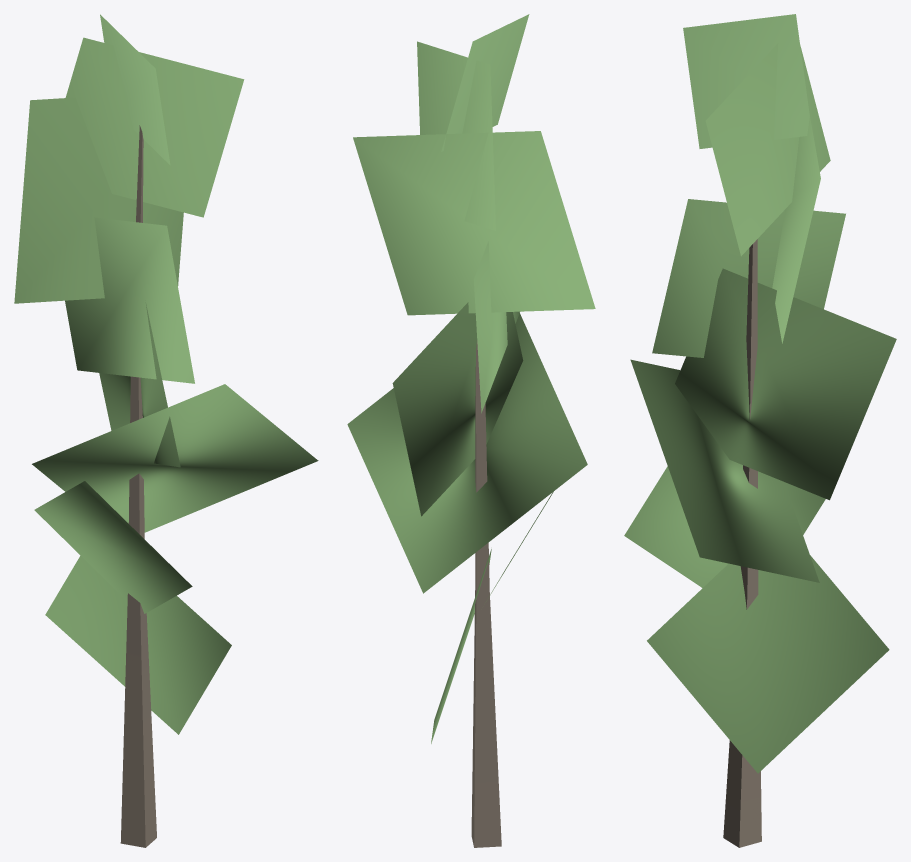
File: tree_poplar_a_lod2.glb
3 renders of one model, left to right at view 1: azimuth 30°, elevation 25°; view 2: azimuth 150°, elevation 25°; view 3: azimuth 270°, elevation 25°, orthographic.
Parts seen in each view (by area): view 1: tree_poplar_a_lod2; view 2: tree_poplar_a_lod2; view 3: tree_poplar_a_lod2.
Boxes of the visible parts, box(x1,y1,x2,y2) form: tree_poplar_a_lod2: box(14, 14, 318, 847); tree_poplar_a_lod2: box(347, 14, 595, 847); tree_poplar_a_lod2: box(624, 14, 896, 847).
Bounding box in the file's own units: 6.41 × 18.1 × 5.46.
